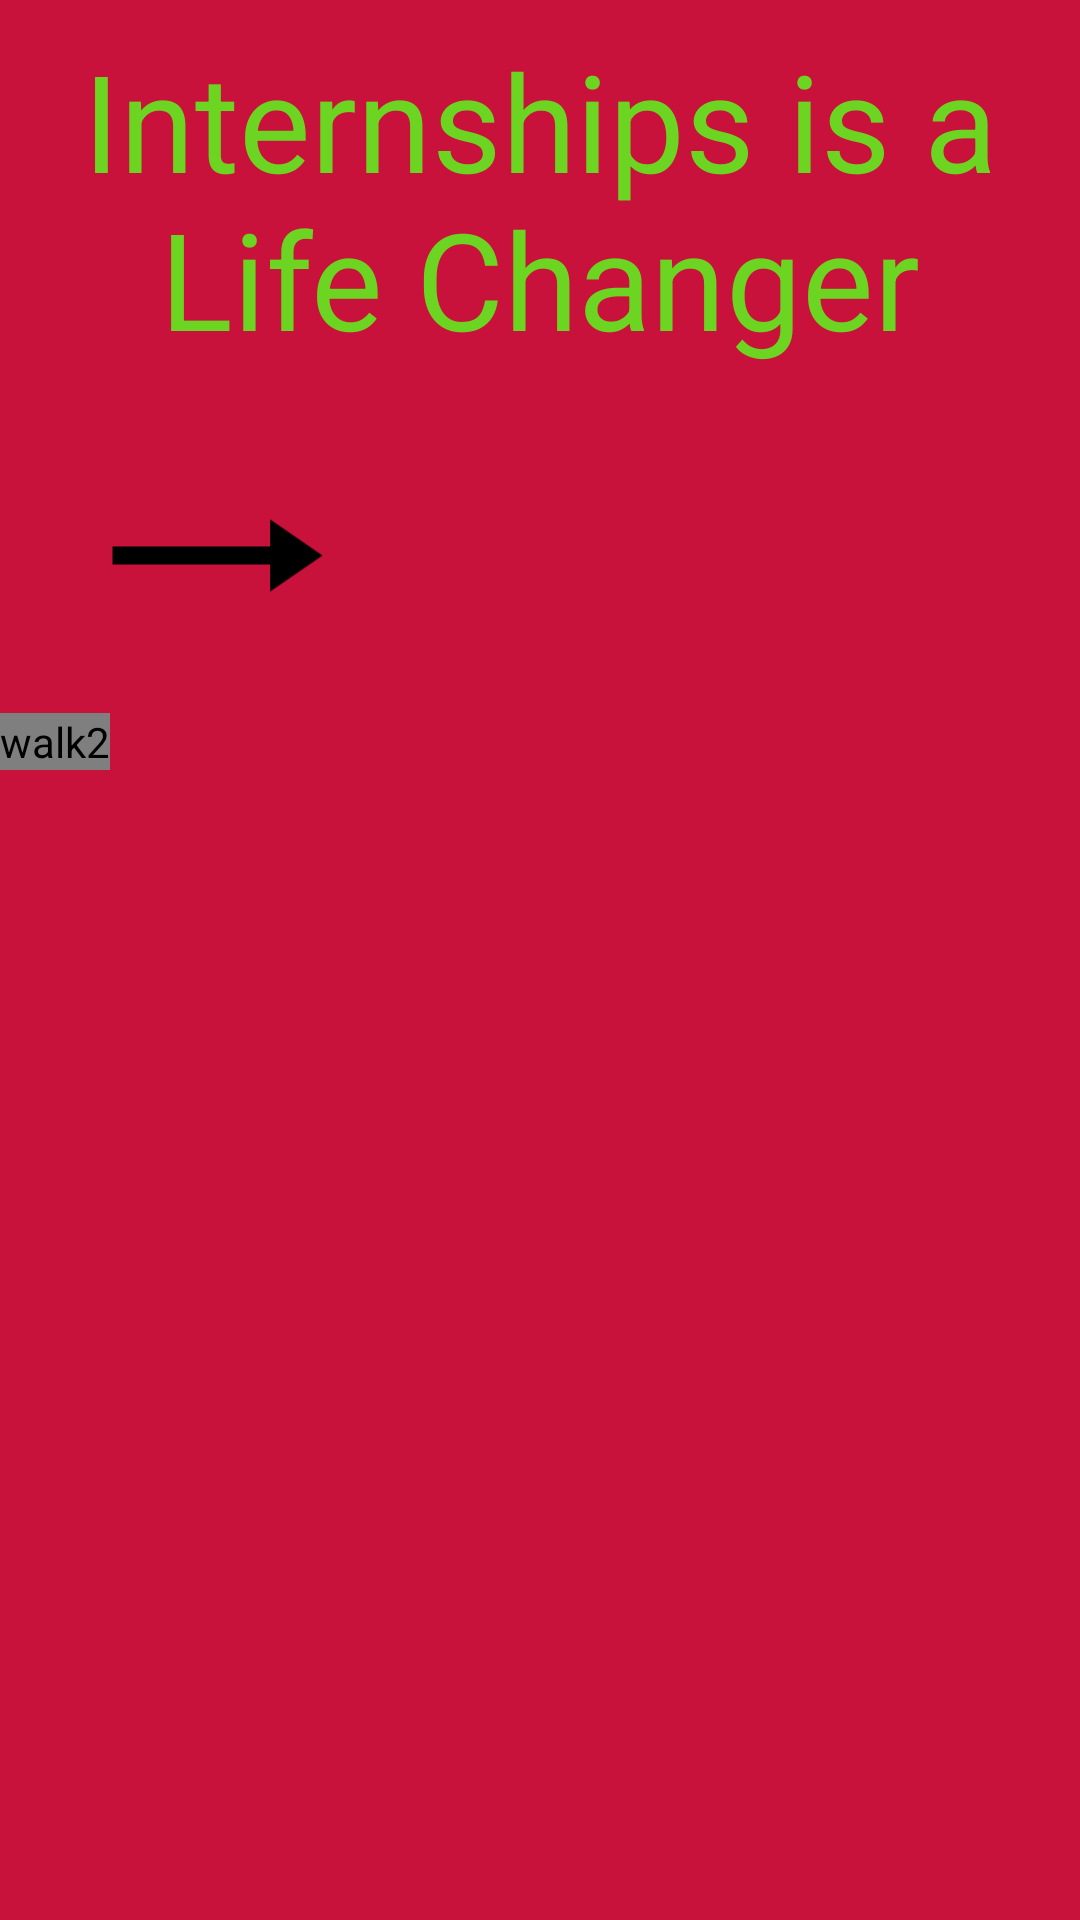

Where icons sit on this 1080×1920 app screen, as bbox(x1, y1, x2, y2):
right2: bbox(112, 519, 322, 592)
